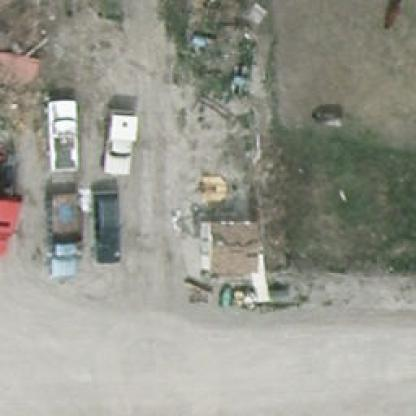car: (91, 188, 122, 265)
pickup: (46, 96, 82, 172), (100, 112, 134, 177)
truck: (34, 197, 83, 276), (0, 134, 23, 258)
